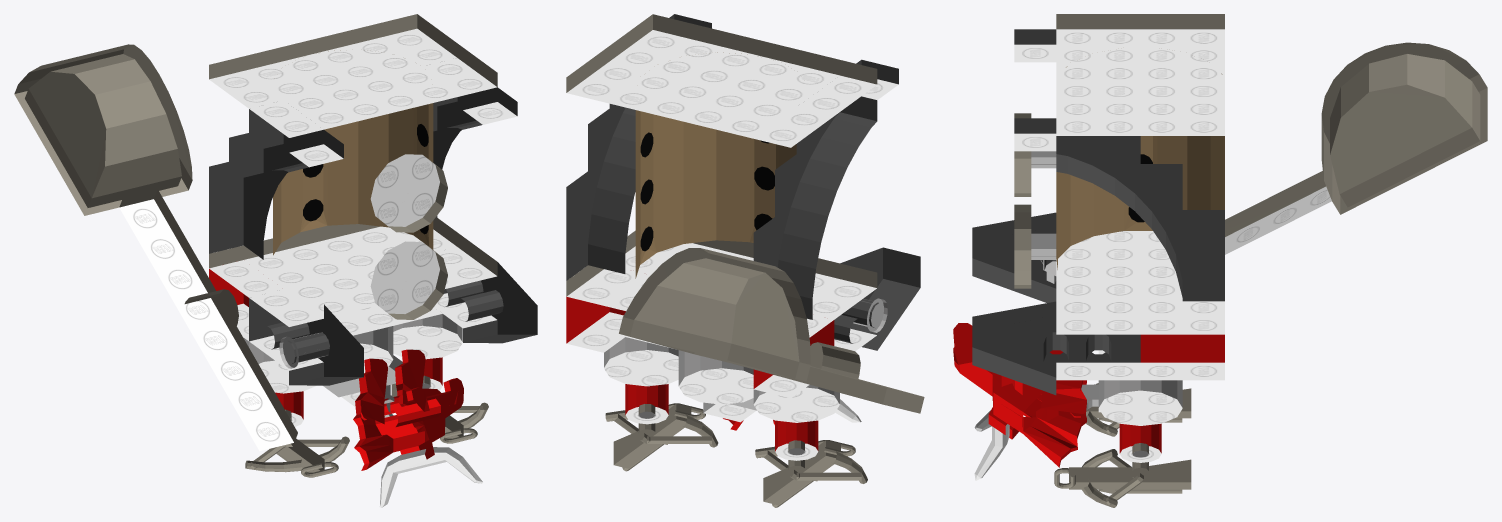
The picture shows the model from 3 angles, left to right: view 1: azimuth 30°, elevation 25°; view 2: azimuth 150°, elevation 25°; view 3: azimuth 270°, elevation 25°; orthographic projection. The views are drawn at different scales.
Visible parts, largest first — view 1: 004_OC_6032B2_PART_1, 035_L_3027500_GD_Bucket, 030_OC_6032B2_Part_12_Arm, 087_OC_6032B2_Part_2, 080_OC_6032B2_Part_4, 069_L_612500_Mask, 075_OC_6032B2_Part_5, 055_OC_6032B2_Part_8, 059_OC_6032B2_Part_8, 052_L_257000, 045_L_257000, 063_OC_6032B2_Part_7 (+1 smaller); view 2: 004_OC_6032B2_PART_1, 087_OC_6032B2_Part_2, 035_L_3027500_GD_Bucket, 075_OC_6032B2_Part_5, 080_OC_6032B2_Part_4, 084_OC_6032B2_Part_3, 052_L_257000, 030_OC_6032B2_Part_12_Arm, 045_L_257000, 063_OC_6032B2_Part_7, 021_OC_6032B2_PART_13, 069_L_612500_Mask; view 3: 004_OC_6032B2_PART_1, 035_L_3027500_GD_Bucket, 087_OC_6032B2_Part_2, 080_OC_6032B2_Part_4, 069_L_612500_Mask, 045_L_257000, 084_OC_6032B2_Part_3, 075_OC_6032B2_Part_5, 030_OC_6032B2_Part_12_Arm, 059_OC_6032B2_Part_8, 063_OC_6032B2_Part_7, 055_OC_6032B2_Part_8 (+1 smaller).
Boxes of the visible parts, box(x1,y1,x2,y2) form: 004_OC_6032B2_PART_1: box(209, 14, 497, 335); 035_L_3027500_GD_Bucket: box(14, 44, 192, 215); 030_OC_6032B2_Part_12_Arm: box(119, 189, 297, 451); 087_OC_6032B2_Part_2: box(209, 87, 517, 259); 080_OC_6032B2_Part_4: box(249, 262, 537, 385); 069_L_612500_Mask: box(353, 349, 482, 507); 075_OC_6032B2_Part_5: box(243, 314, 462, 417); 055_OC_6032B2_Part_8: box(370, 154, 447, 232); 059_OC_6032B2_Part_8: box(370, 241, 447, 319); 052_L_257000: box(245, 409, 349, 477); 045_L_257000: box(391, 375, 488, 443); 063_OC_6032B2_Part_7: box(275, 357, 442, 426); 004_OC_6032B2_PART_1: box(566, 14, 877, 348); 087_OC_6032B2_Part_2: box(566, 14, 898, 319); 035_L_3027500_GD_Bucket: box(619, 248, 810, 381); 075_OC_6032B2_Part_5: box(604, 337, 839, 422); 080_OC_6032B2_Part_4: box(834, 247, 920, 351); 084_OC_6032B2_Part_3: box(566, 296, 834, 398); 052_L_257000: box(755, 440, 867, 505); 030_OC_6032B2_Part_12_Arm: box(738, 342, 924, 413); 045_L_257000: box(605, 403, 718, 468); 063_OC_6032B2_Part_7: box(625, 384, 818, 460); 021_OC_6032B2_PART_13: box(853, 298, 887, 332); 069_L_612500_Mask: box(723, 399, 861, 430); 004_OC_6032B2_PART_1: box(1056, 14, 1224, 354); 035_L_3027500_GD_Bucket: box(1321, 42, 1487, 214); 087_OC_6032B2_Part_2: box(1014, 29, 1224, 301); 080_OC_6032B2_Part_4: box(972, 212, 1140, 395); 069_L_612500_Mask: box(953, 323, 1086, 480); 045_L_257000: box(1054, 443, 1191, 507); 084_OC_6032B2_Part_3: box(1140, 334, 1224, 380); 075_OC_6032B2_Part_5: box(1081, 380, 1182, 425); 030_OC_6032B2_Part_12_Arm: box(1225, 171, 1331, 254); 059_OC_6032B2_Part_8: box(1014, 204, 1056, 288); 063_OC_6032B2_Part_7: box(1119, 423, 1161, 462); 055_OC_6032B2_Part_8: box(1014, 113, 1056, 196).
Size of the model in its own units: 6.81 by 8.19 by 10.15.
Materials: 13 (3 with a texture image).
